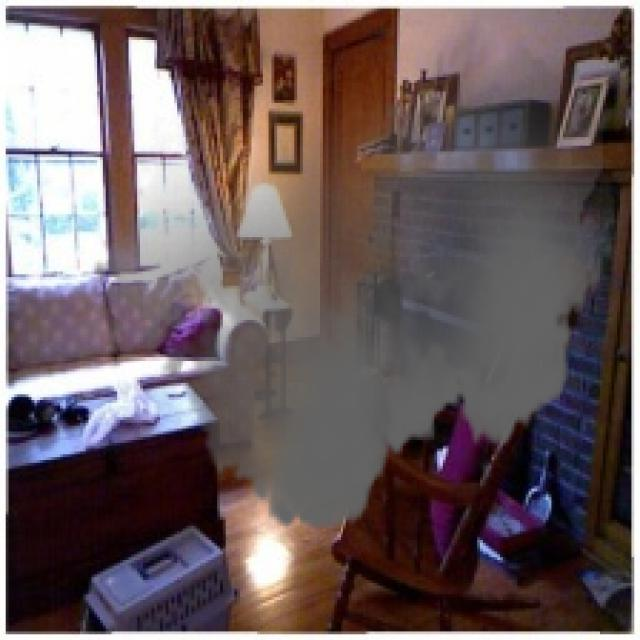smoke: (91, 20, 614, 549)
